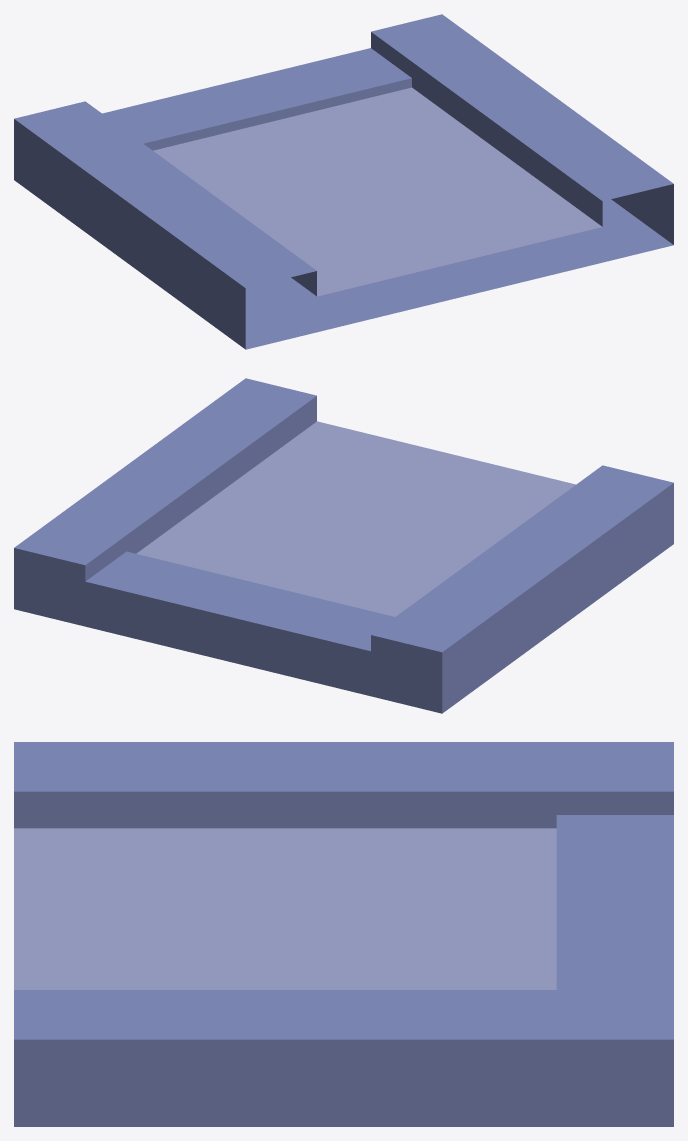
Rendered from bridge_1_part_2.fbx.
The picture shows the model from 3 angles, top to bottom: view 1: azimuth 30°, elevation 25°; view 2: azimuth 150°, elevation 25°; view 3: azimuth 270°, elevation 25°; orthographic projection. The views are drawn at different scales.
Parts seen in each view (by area): view 1: bridge_1_part_2; view 2: bridge_1_part_2; view 3: bridge_1_part_2.
Boxes of the visible parts, bbox=[...] form: bridge_1_part_2: bbox=[14, 14, 673, 349]; bridge_1_part_2: bbox=[14, 378, 673, 713]; bridge_1_part_2: bbox=[14, 742, 673, 1126].
Size of the model in its own units: 9.6 by 1.31 by 9.
